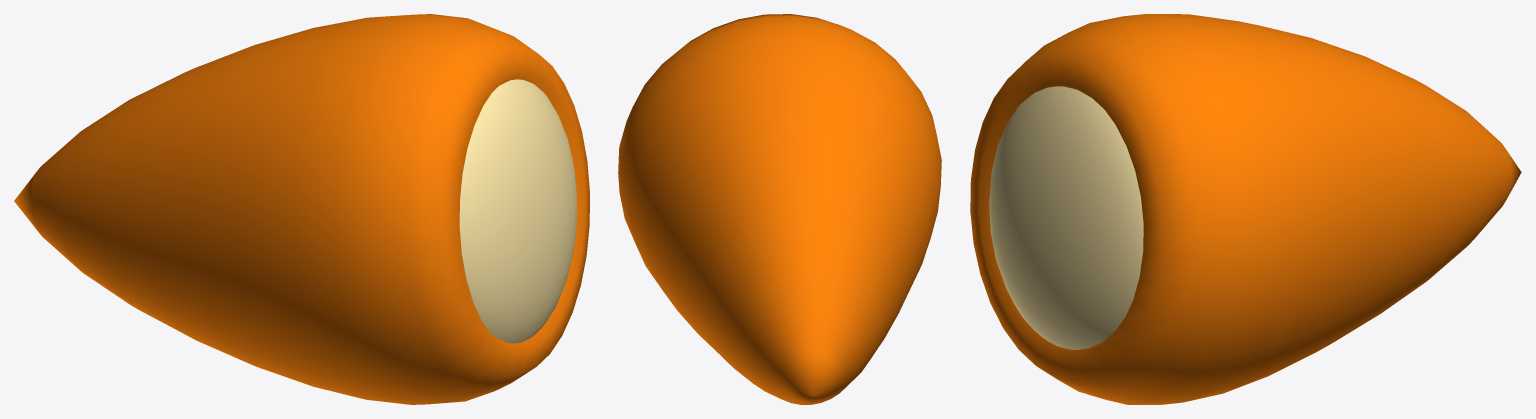
Rendered from Teddy_legleft.fbx.
3 renders of one model, left to right at view 1: azimuth 30°, elevation 25°; view 2: azimuth 150°, elevation 25°; view 3: azimuth 270°, elevation 25°, orthographic. The views are drawn at different scales.
Visible parts, largest first — view 1: Sphere.011; view 2: Sphere.011; view 3: Sphere.011.
Part boxes in pixels (<box>): Sphere.011: <box>14,14,589,404</box>; Sphere.011: <box>618,14,941,404</box>; Sphere.011: <box>970,14,1521,404</box>.
Bounding box in the file's own units: 155 × 134 × 186.
